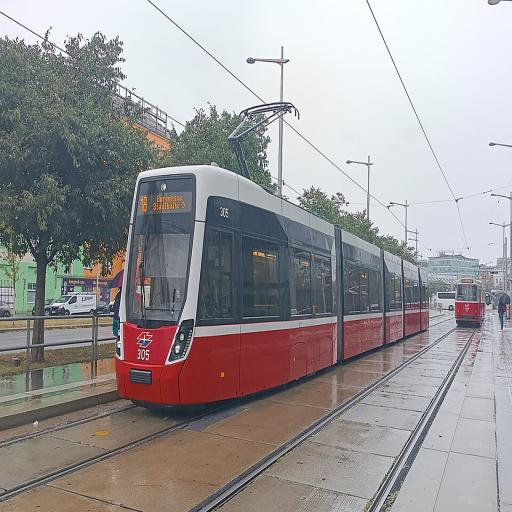E2-Tram: (455, 278, 487, 328)
Flexity: (114, 165, 432, 409)
